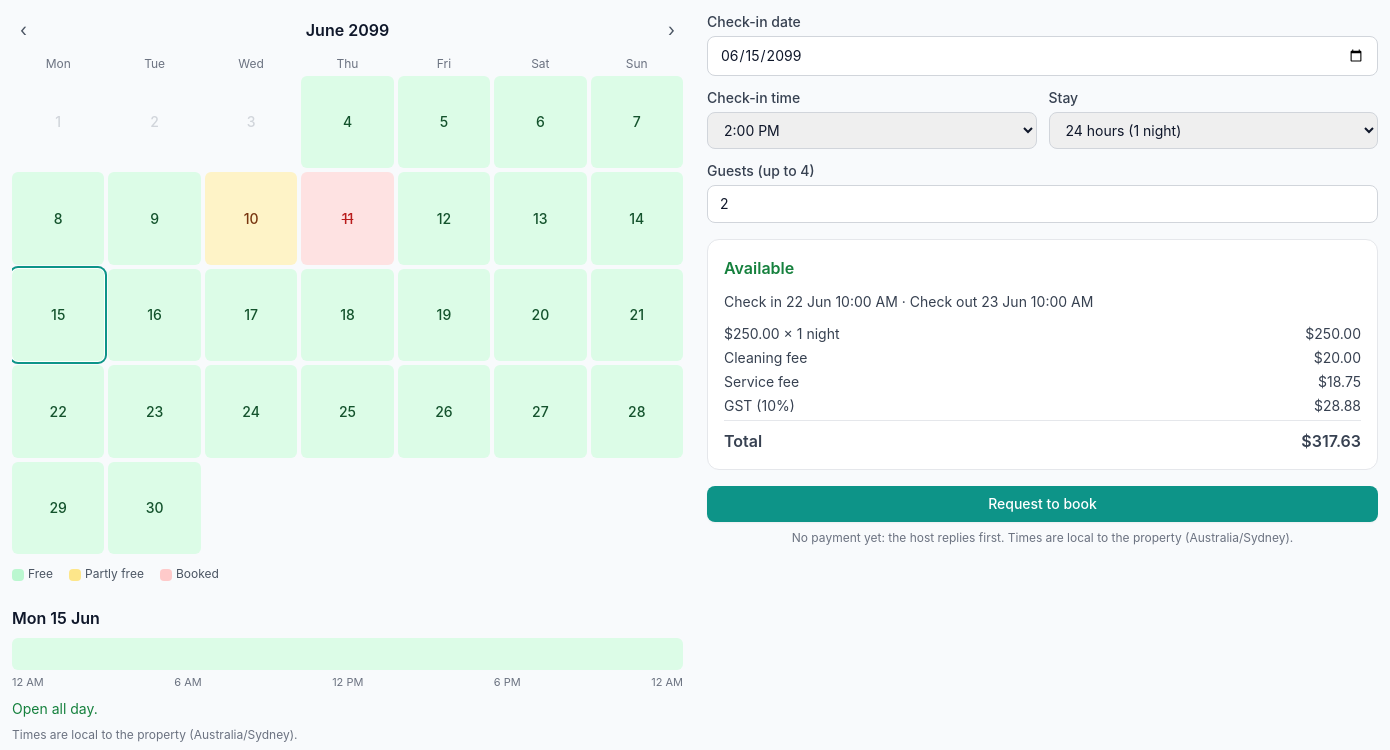
AvailabilityPanel › requesting to book › tells a guest with an incomplete profile what is missing and does not send
This screenshot has width=1390, height=750.
Click the button "Request to book".
click(1042, 504)  # box [707,486,1378,522]
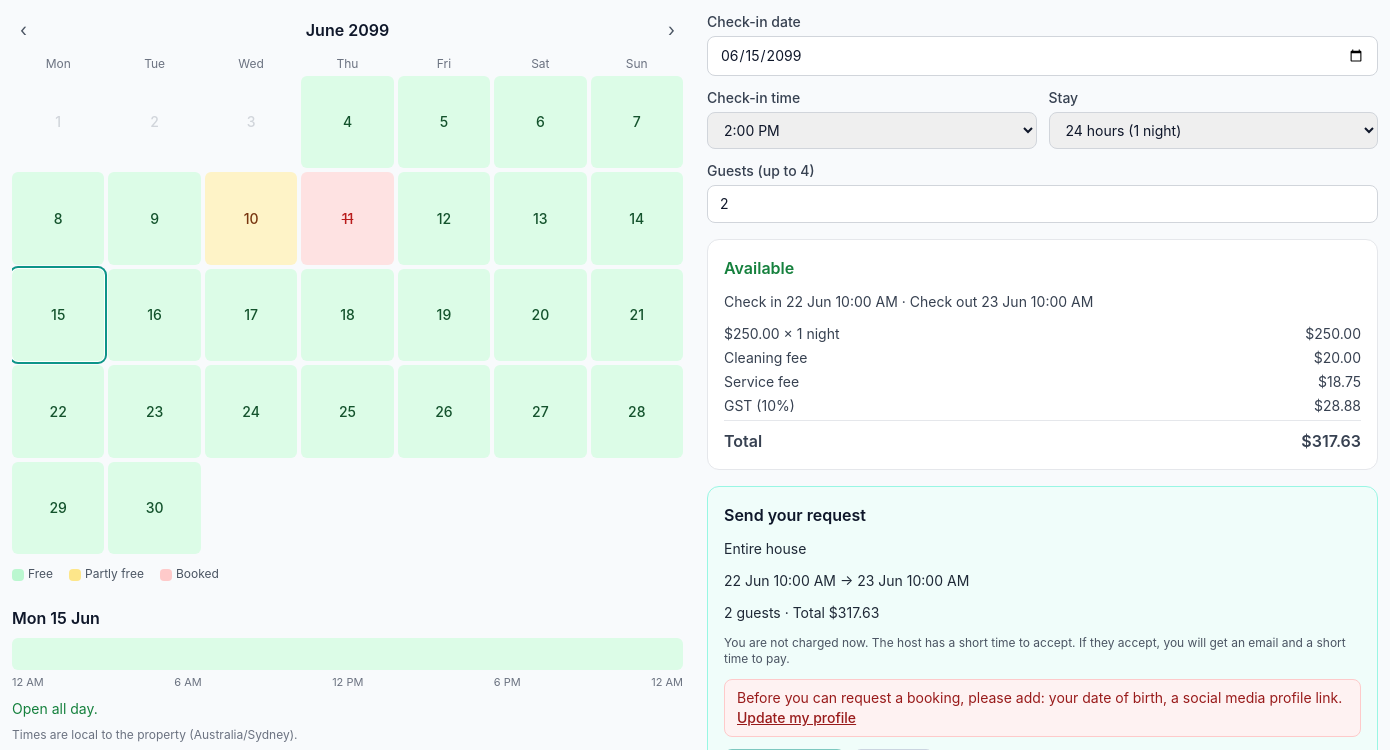
Result: the text "your date of birth, a social media profile link" is shown at [1049,689,1338,706]
Result: the link "Update my profile" is shown at [737,709,856,726]
